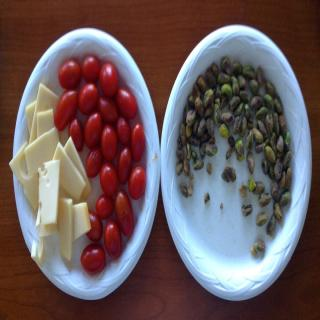Cheese: (8, 82, 93, 267)
